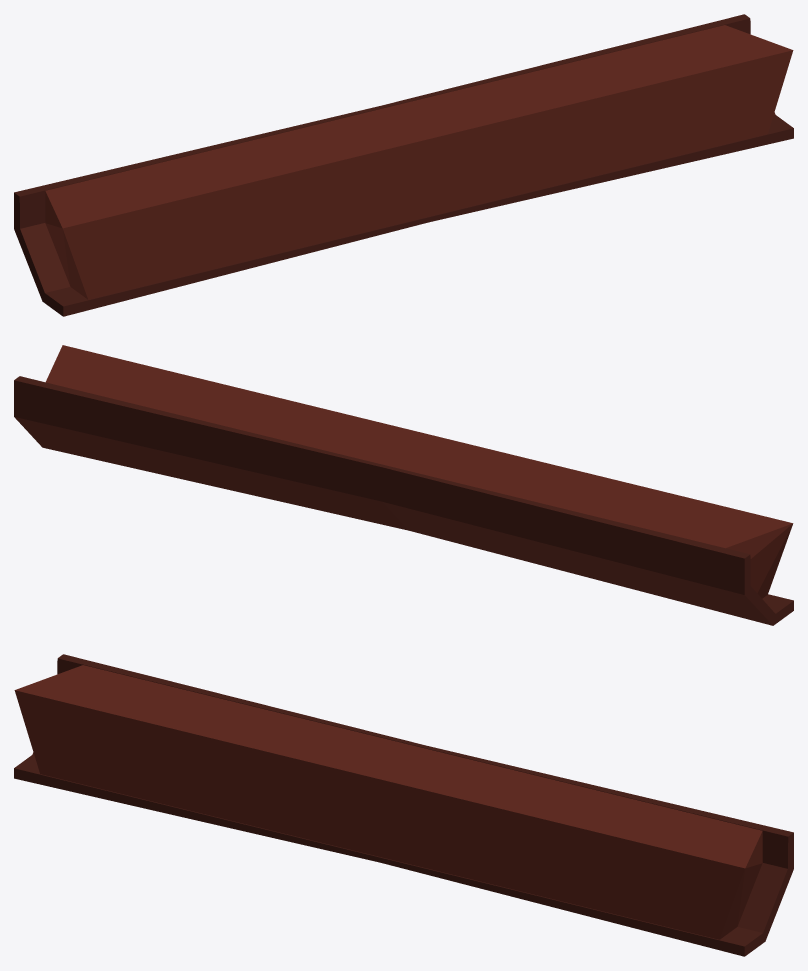
File: Log_3_Red.fbx
3 renders of one model, top to bottom at view 1: azimuth 30°, elevation 25°; view 2: azimuth 150°, elevation 25°; view 3: azimuth 330°, elevation 25°, orthographic.
Visible parts, largest first — view 1: Log_3_Red; view 2: Log_3_Red; view 3: Log_3_Red.
Part boxes in pixels (x1,y1,x2,y2): Log_3_Red: (14, 14, 793, 316); Log_3_Red: (14, 345, 793, 625); Log_3_Red: (14, 654, 793, 956).
Bounding box in the file's own units: 200 × 23.09 × 23.37.
